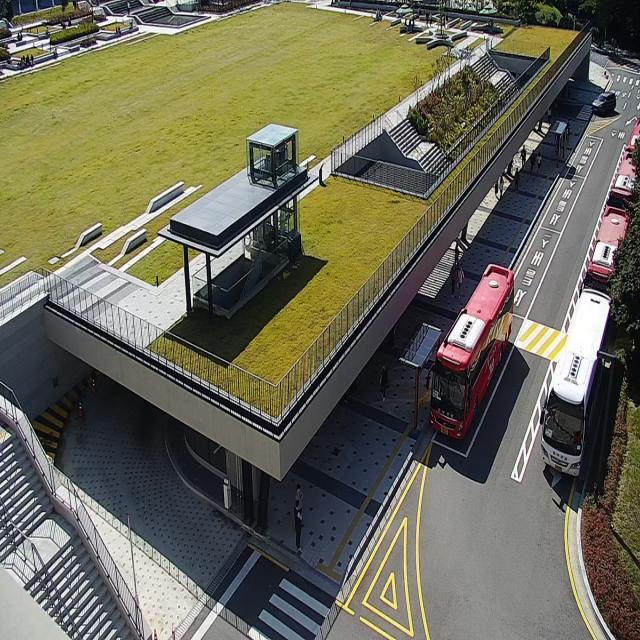queue: (417, 327, 441, 437)
